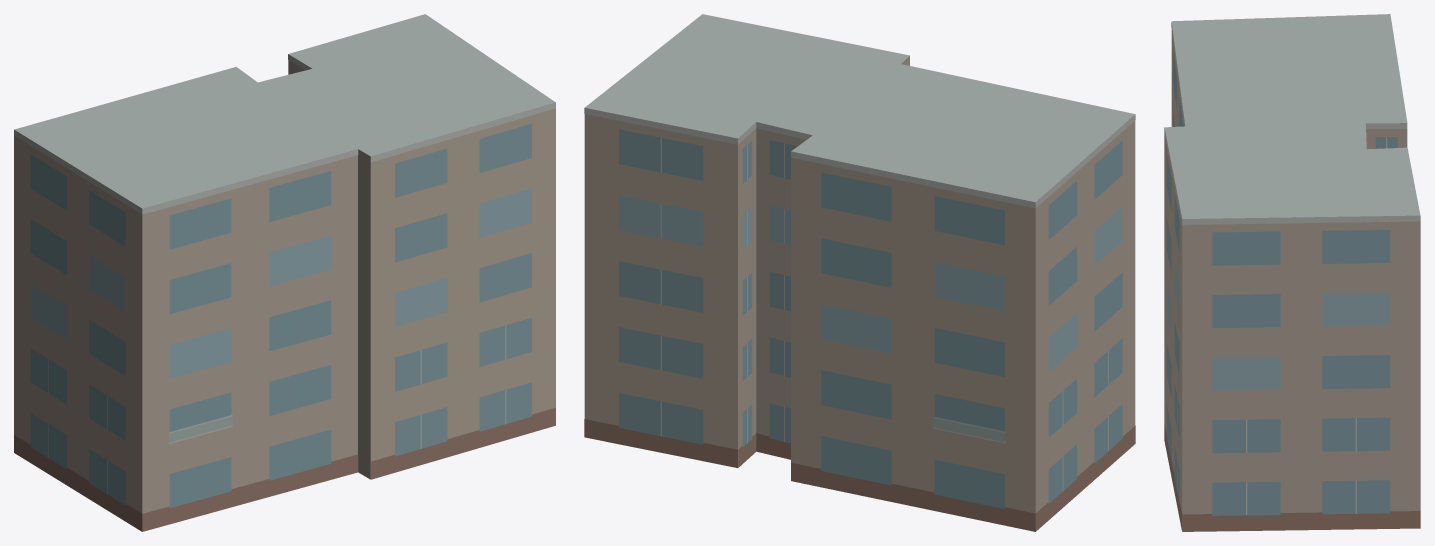
Rendered from survey-upis-32757042.glb.
The picture shows the model from 3 angles, left to right: view 1: azimuth 30°, elevation 25°; view 2: azimuth 150°, elevation 25°; view 3: azimuth 270°, elevation 25°; orthographic projection. The views are drawn at different scales.
Visible parts, largest first — view 1: survey-upis-32757042.tmp; view 2: survey-upis-32757042.tmp; view 3: survey-upis-32757042.tmp.
Boxes of the visible parts, x1,y1,x2,y2 form: survey-upis-32757042.tmp: (14, 14, 555, 531); survey-upis-32757042.tmp: (584, 14, 1135, 531); survey-upis-32757042.tmp: (1164, 14, 1420, 531).
Size of the model in its own units: 18.28 by 13 by 9.65.
